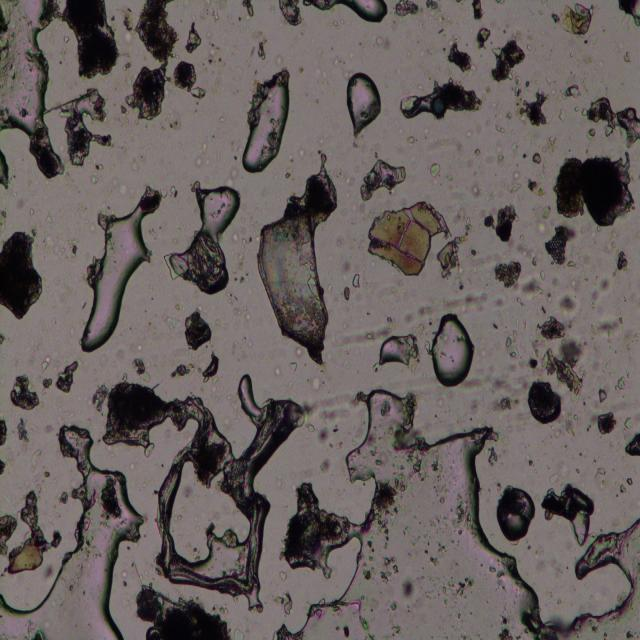Air bubble: (289, 376, 547, 637), (0, 423, 142, 639), (0, 1, 66, 181), (79, 200, 154, 354), (547, 518, 640, 639), (241, 70, 291, 174), (432, 313, 474, 389), (191, 186, 244, 237), (344, 68, 382, 137), (305, 0, 389, 25), (377, 335, 419, 367), (200, 354, 220, 379)
Background material: (131, 575, 242, 640), (364, 199, 448, 279), (126, 0, 180, 122), (554, 151, 634, 228), (0, 487, 62, 573), (0, 228, 48, 322), (62, 0, 118, 77), (63, 90, 114, 169), (395, 82, 485, 119), (543, 484, 595, 546), (586, 96, 640, 149), (495, 484, 537, 541), (546, 348, 585, 404), (358, 156, 408, 199), (525, 379, 564, 424), (304, 400, 340, 444), (490, 40, 526, 84), (542, 224, 576, 268), (330, 323, 392, 347), (460, 366, 511, 395), (178, 306, 212, 348), (234, 372, 264, 419), (172, 60, 208, 99), (559, 1, 595, 40), (482, 205, 518, 244), (8, 372, 40, 413), (516, 91, 548, 128), (446, 493, 472, 538), (443, 570, 475, 606), (382, 478, 404, 530), (438, 234, 462, 278), (460, 287, 492, 317), (403, 451, 432, 480), (493, 262, 523, 289), (446, 45, 472, 76), (516, 235, 541, 267), (57, 358, 78, 396), (502, 331, 524, 365), (489, 612, 515, 640), (280, 0, 303, 31), (590, 316, 622, 338), (454, 203, 474, 238), (196, 141, 220, 170), (537, 317, 566, 341), (85, 386, 109, 415), (461, 171, 484, 200), (396, 576, 418, 606), (524, 173, 548, 200), (616, 0, 640, 27), (185, 19, 202, 56), (170, 361, 196, 383), (598, 410, 618, 438), (0, 150, 12, 192), (495, 392, 519, 413), (485, 444, 505, 469), (520, 275, 542, 297), (57, 239, 80, 260), (614, 472, 632, 498), (395, 1, 421, 19), (475, 25, 493, 50), (16, 416, 32, 444), (624, 431, 640, 459), (234, 0, 255, 21), (371, 32, 393, 52), (27, 621, 49, 640), (590, 280, 606, 304), (376, 399, 392, 422), (562, 83, 582, 101), (567, 410, 579, 440), (320, 451, 334, 476), (538, 204, 556, 223), (503, 180, 521, 197), (559, 297, 579, 312), (596, 386, 609, 409), (132, 358, 146, 379), (471, 0, 485, 21), (0, 419, 10, 448), (428, 162, 442, 181), (616, 250, 628, 272), (255, 41, 267, 63), (158, 187, 178, 199), (227, 172, 241, 189), (532, 150, 544, 168), (559, 105, 572, 121), (270, 363, 286, 375), (424, 1, 441, 12), (620, 50, 634, 63), (351, 274, 362, 289), (287, 361, 299, 374), (501, 106, 513, 119), (422, 339, 431, 356), (0, 459, 8, 477), (343, 287, 352, 303), (494, 123, 504, 134), (617, 382, 626, 394), (498, 153, 506, 166), (598, 468, 606, 478), (422, 325, 426, 338)
Cellulose filter fibre: (106, 385, 286, 595)
Fragment: (257, 213, 330, 364)
